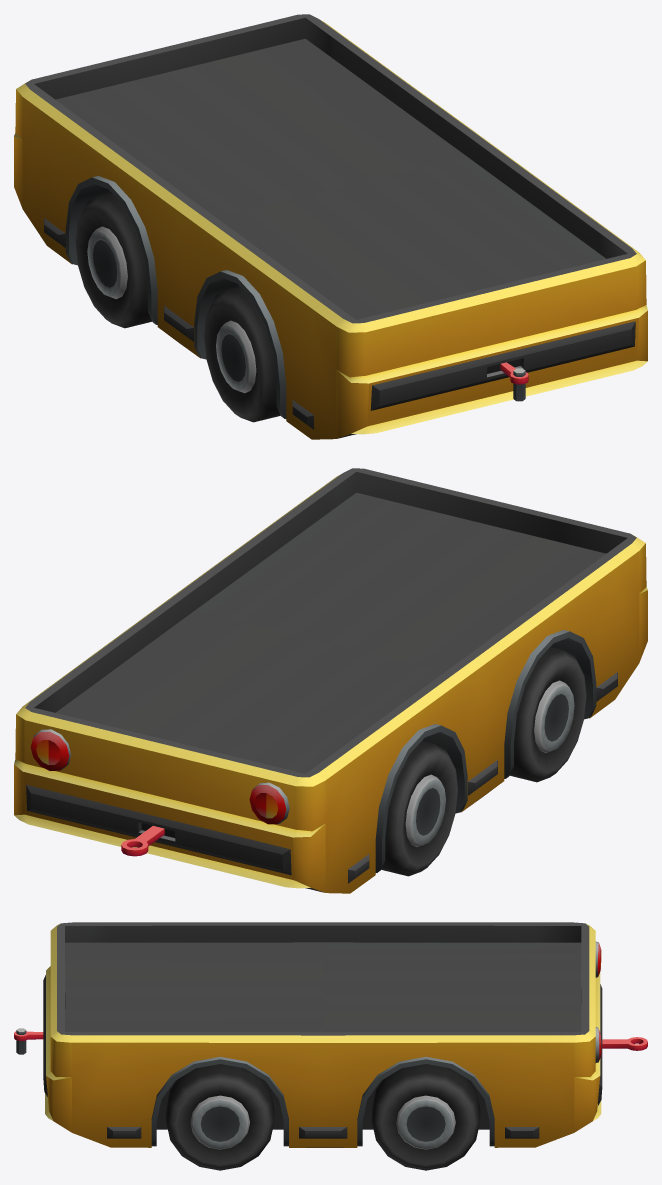
File: Truck_2C_Addon.fbx
3 views of the same model, one above another, from view 1: azimuth 30°, elevation 25°; view 2: azimuth 150°, elevation 25°; view 3: azimuth 270°, elevation 25° (orthographic). The views are drawn at different scales.
Parts seen in each view (by area): view 1: Truck_2C_Addon, Truck_2C_Addon_Wheel_F.R, Truck_2C_Addon_Wheel_R.R; view 2: Truck_2C_Addon, Truck_2C_Addon_Wheel_R.R, Truck_2C_Addon_Wheel_F.R; view 3: Truck_2C_Addon, Truck_2C_Addon_Wheel_F.L, Truck_2C_Addon_Wheel_R.L.
Part boxes in pixels (bbox=[...]): Truck_2C_Addon: bbox=[14, 14, 647, 439]; Truck_2C_Addon_Wheel_F.R: bbox=[203, 287, 280, 422]; Truck_2C_Addon_Wheel_R.R: bbox=[75, 193, 151, 328]; Truck_2C_Addon: bbox=[14, 468, 647, 893]; Truck_2C_Addon_Wheel_R.R: bbox=[381, 741, 458, 876]; Truck_2C_Addon_Wheel_F.R: bbox=[510, 647, 586, 782]; Truck_2C_Addon: bbox=[14, 922, 647, 1147]; Truck_2C_Addon_Wheel_F.L: bbox=[166, 1064, 274, 1170]; Truck_2C_Addon_Wheel_R.L: bbox=[372, 1064, 480, 1170].
Bounding box in the file's own units: 293 × 141 × 618.
